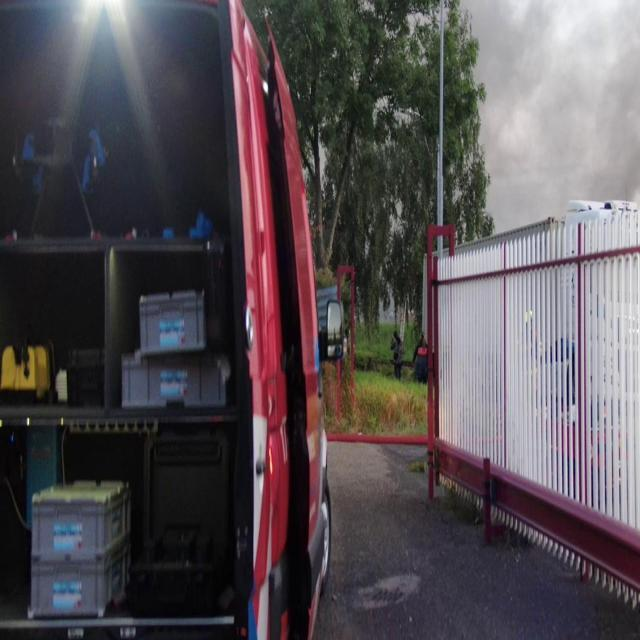Smoke: (456, 0, 640, 235)
